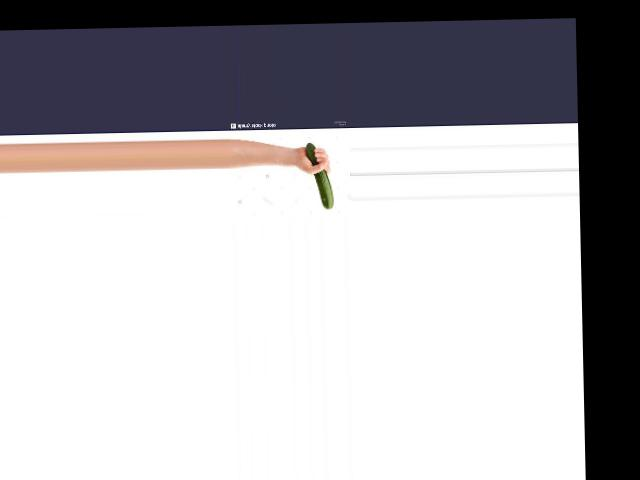cucumber: (307, 142, 334, 209)
